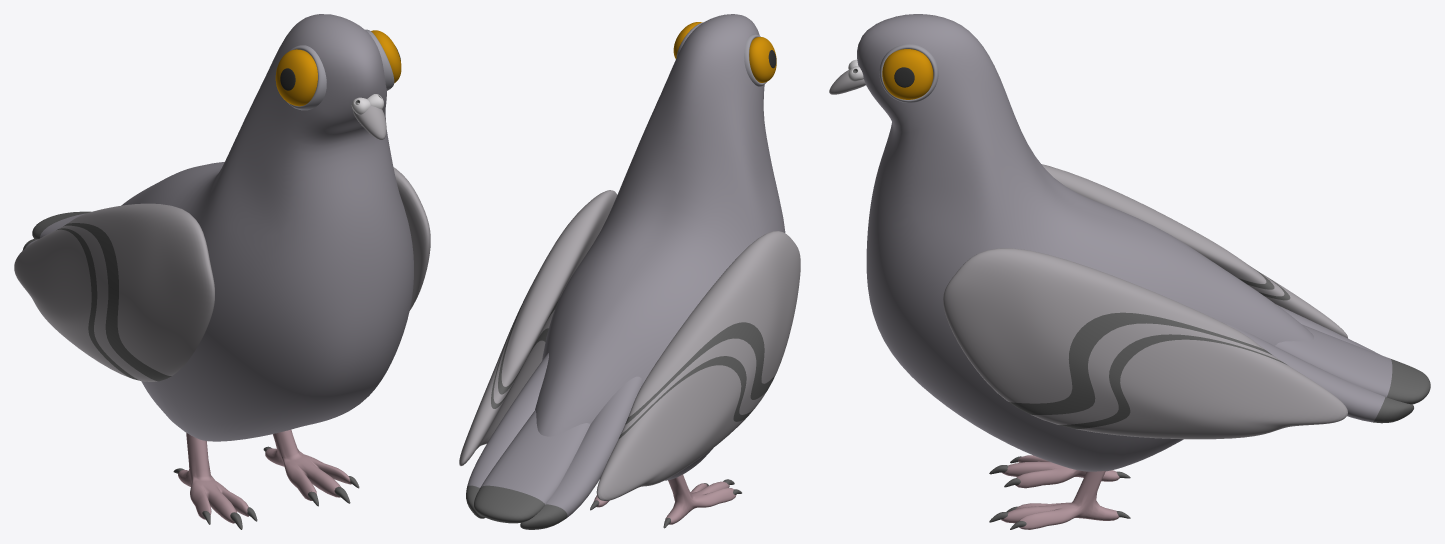
File: WalkingPigeon.glb
3 views of the same model, side by side, from view 1: azimuth 30°, elevation 25°; view 2: azimuth 150°, elevation 25°; view 3: azimuth 270°, elevation 25° (orthographic). The views are drawn at different scales.
Visible parts, largest first — view 1: polySurface55, polySurface74; view 2: polySurface55, polySurface74; view 3: polySurface55, polySurface73.
Boxes of the visible parts, <box> form: polySurface55: <box>14,14,430,529</box>; polySurface74: <box>43,224,190,380</box>; polySurface55: <box>459,14,800,529</box>; polySurface74: <box>678,260,797,464</box>; polySurface55: <box>829,14,1430,529</box>; polySurface73: <box>972,283,1230,433</box>.
Size of what is drawn, in the model's own units: 0.0451 by 0.0844 by 0.0951.
